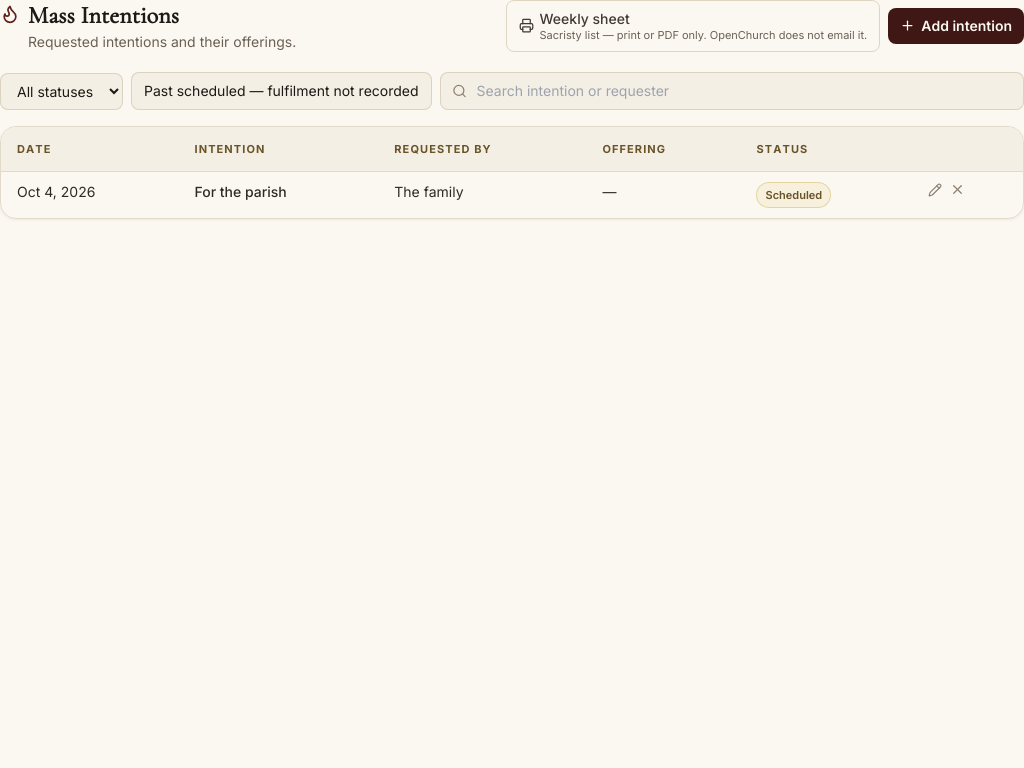
Assign dropdown follows the Mass date › a non-Mass 409 says the calendar entry is not a Mass
This screenshot has width=1024, height=768.
Click the button named "edit intention". click: point(935, 190)
box: [928,182,942,196]
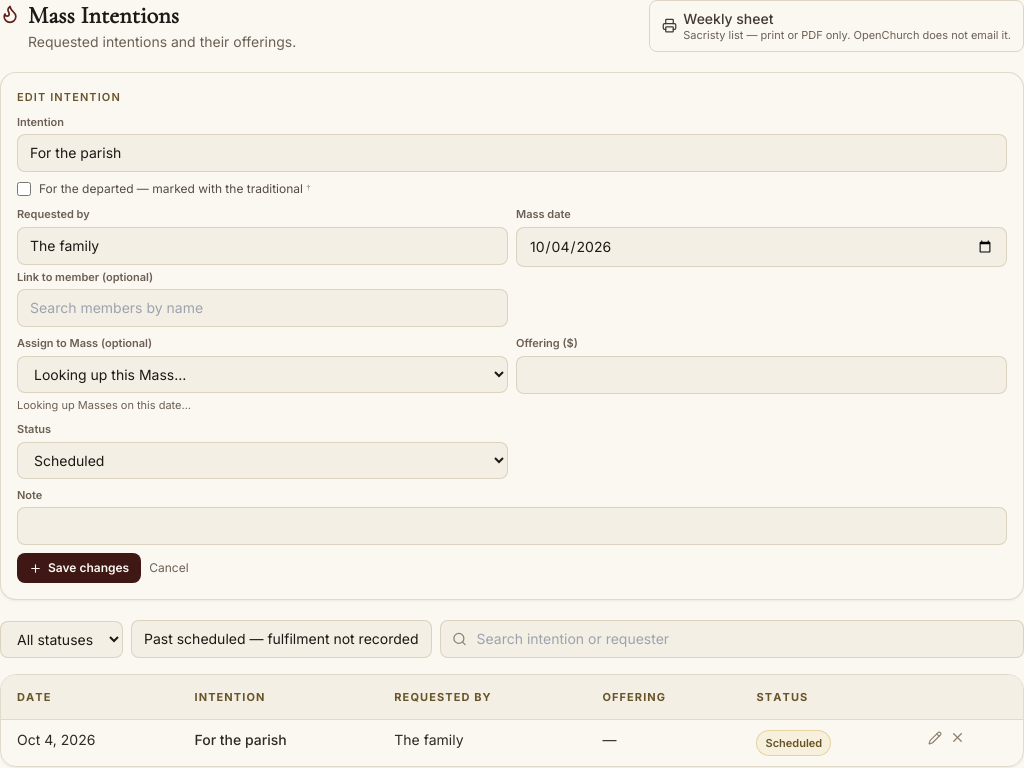
Expected: the dropdown labelled "Assign to Mass (optional)" shows "Looking up this Mass…", [17,356,508,392]
Click the button "Save changes". click: point(79, 568)
box: [17,553,141,583]
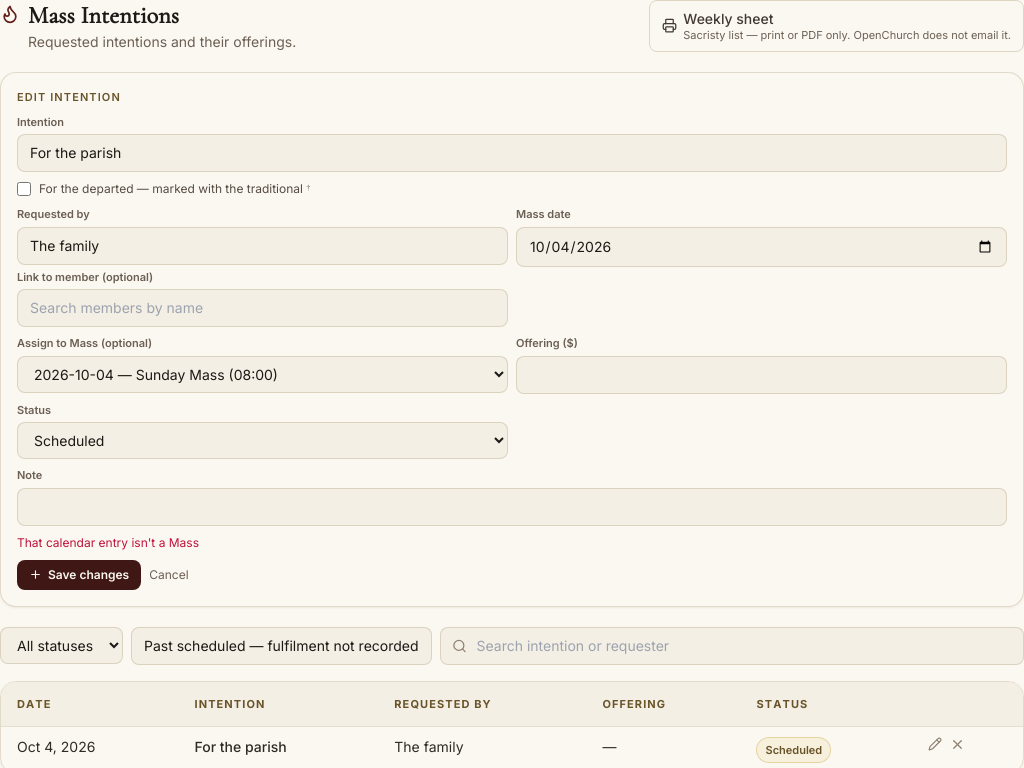
Expected: the message reads "That calendar entry isn't a Mass", [17,534,199,550]
